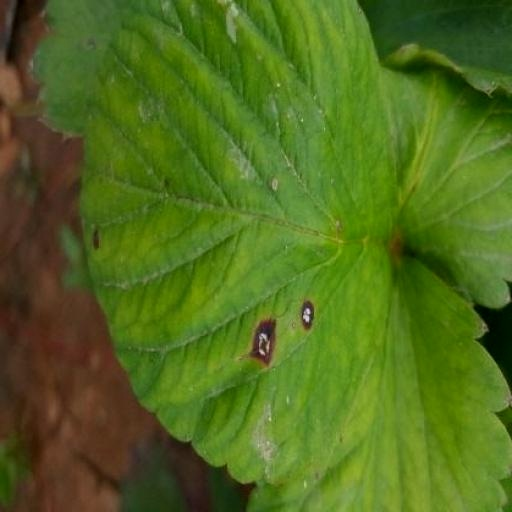Leaf Spot: (111, 26, 433, 511), (386, 370, 486, 511)
